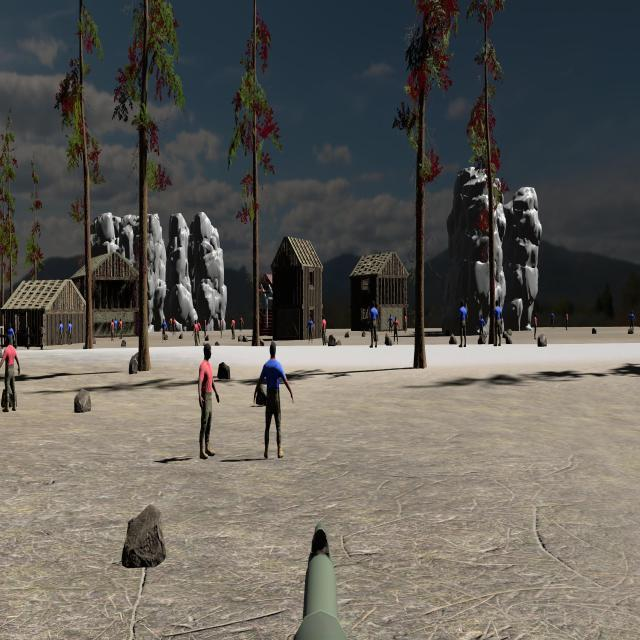Human: (254, 341, 293, 459), (199, 343, 219, 458), (0, 334, 20, 412), (366, 300, 380, 348), (455, 300, 469, 347), (492, 299, 504, 346)
